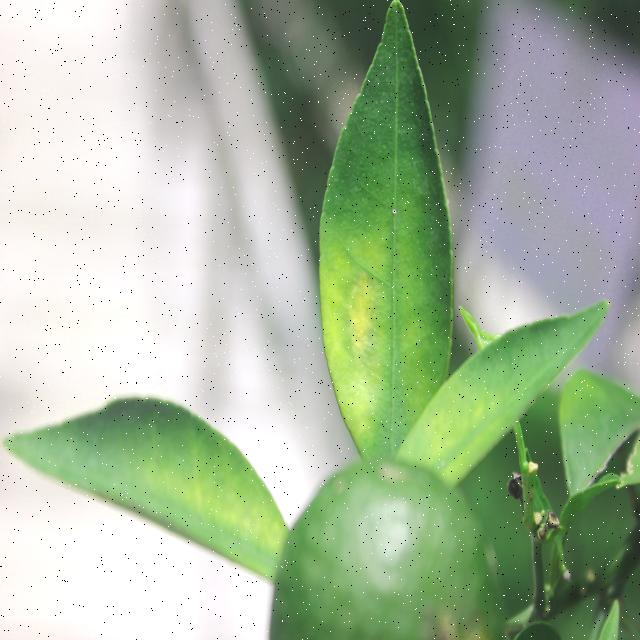greening: (329, 21, 458, 440), (19, 386, 279, 590)
